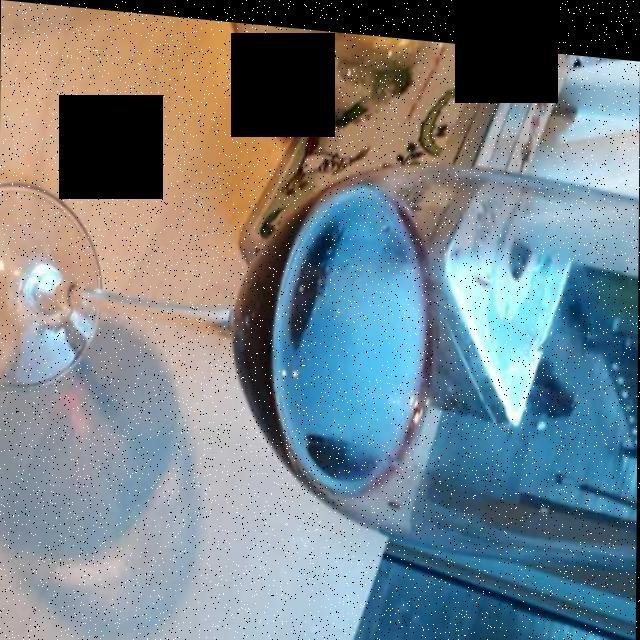wine: (272, 182, 429, 474)
